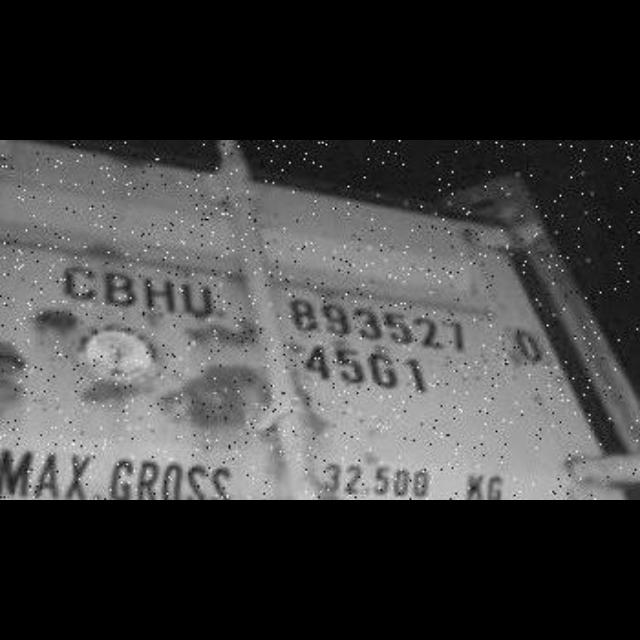0: (507, 328, 545, 370), (410, 462, 432, 500), (392, 468, 412, 498)
1: (443, 313, 473, 365), (403, 358, 433, 400)
2: (416, 308, 444, 356), (344, 460, 364, 500)
3: (353, 302, 383, 346), (314, 462, 344, 492)
4: (301, 346, 333, 386)
5: (382, 304, 416, 354), (334, 344, 366, 390), (371, 460, 394, 500)
8: (288, 290, 320, 338)
9: (322, 299, 351, 339)
a: (32, 448, 68, 499)
b: (101, 263, 137, 311)
c: (58, 258, 100, 306)
g: (106, 452, 138, 500), (367, 351, 399, 394), (486, 468, 506, 500)
h: (140, 270, 180, 316)
k: (462, 470, 484, 500)
m: (0, 444, 36, 500)
o: (160, 456, 186, 500)
r: (137, 458, 161, 500)
s: (208, 458, 234, 500), (185, 456, 209, 499)
u: (178, 275, 216, 323)
x: (65, 448, 97, 500)
